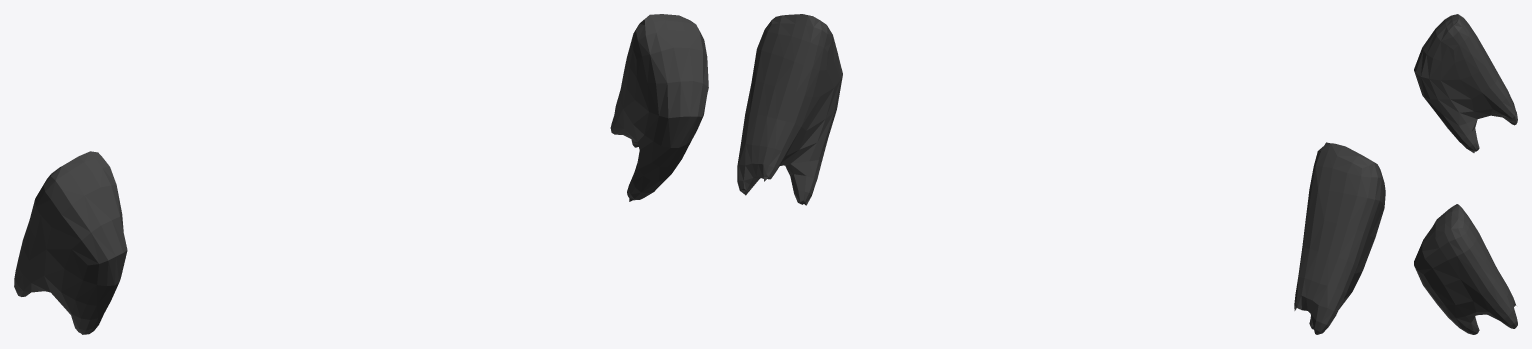
The model's file is L_mand_P2_LO.glb.
3 views of the same model, side by side, from view 1: azimuth 30°, elevation 25°; view 2: azimuth 150°, elevation 25°; view 3: azimuth 270°, elevation 25° (orthographic). The views are drawn at different scales.
Visible parts, largest first — view 1: L_mand_P2_LO; view 2: L_mand_P2_LO; view 3: L_mand_P2_LO.
Part boxes in pixels (<box>): L_mand_P2_LO: <box>14,14,708,334</box>; L_mand_P2_LO: <box>737,14,1385,334</box>; L_mand_P2_LO: <box>1414,14,1517,334</box>.
Size of the model in its own units: 0.00088 by 0.000245 by 0.000176.
1 material, 1 textured.
